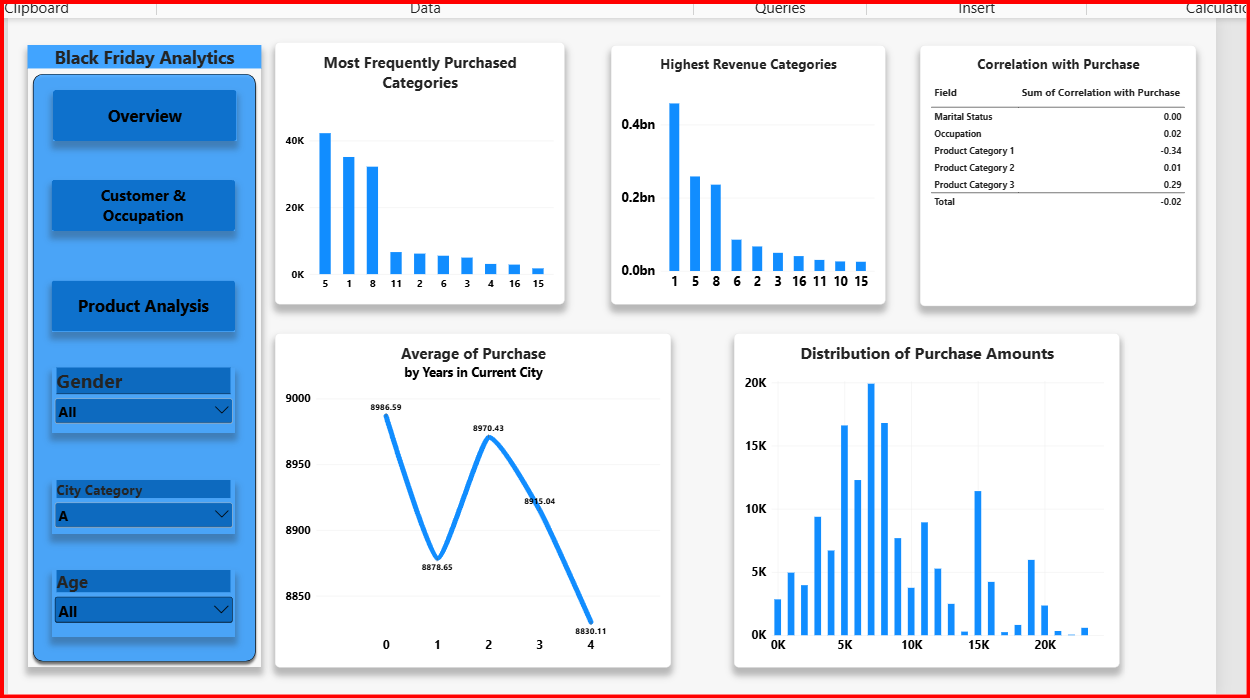

What the dashboard file says about the page in this screenshot:
{"tool":"powerbi","page":{"name":"Product Anyalsis","canvas":[1920,1080],"ordinal":2},"visuals":[{"type":"group","id":"g1","title":"Group 2","box":[31,42.9,369.8,990.2],"z":0},{"type":"shape","title":"Black Friday Analytics","box":[31,42.9,371.7,989.3],"z":0,"group":"g1"},{"type":"clusteredColumnChart","title":"Most Frequently Purchased Categories","fields":{"Category":["Black_friday_sales_dataset.Product_Category_1"],"Y":["CountNonNull(Black_friday_sales_dataset.User_ID)"]},"box":[424.7,38.2,460.5,417.5],"z":1000},{"type":"actionButton","box":[72,115.5,292.1,81.1],"z":1000,"group":"g1"},{"type":"clusteredColumnChart","title":"Highest Revenue Categories","fields":{"Category":["Black_friday_sales_dataset.Product_Category_1"],"Y":["Sum(Black_friday_sales_dataset.Purchase)"]},"box":[959.1,42.9,436.6,412.8],"z":2000},{"type":"actionButton","box":[70.3,418.1,292.1,81.1],"z":2000,"group":"g1"},{"type":"actionButton","box":[70.3,256.5,292.1,81.1],"z":3000,"group":"g1"},{"type":"lineChart","title":"Average of Purchase ","fields":{"Category":["Black_friday_sales_dataset.Stay_In_Current_City_Years"],"Y":["Avg(Black_friday_sales_dataset.Purchase)"]},"box":[424.7,501,629.9,532.1],"z":3000},{"type":"clusteredColumnChart","title":"Distribution of Purchase Amounts","fields":{"Category":["Black_friday_sales_dataset.Purchase (bins)"],"Y":["CountNonNull(Black_friday_sales_dataset.Purchase)"]},"box":[1154.8,501,613.2,532.1],"z":3001},{"type":"tableEx","title":"Correlation with Purchase","fields":{"Values":["CorrelationTable.Field","Sum(CorrelationTable.Correlation with Purchase)"]},"box":[1450.6,42.9,439,415.1],"z":3002},{"type":"slicer","fields":{"Values":["Black_friday_sales_dataset.Gender"]},"box":[70.3,556.6,292.9,103.9],"z":4000,"group":"g1"},{"type":"slicer","fields":{"Values":["Black_friday_sales_dataset.City_Category"]},"box":[70.3,735.6,292.9,86.6],"z":5000,"group":"g1"},{"type":"slicer","fields":{"Values":["Black_friday_sales_dataset.Age"]},"box":[70.3,877,292.9,106.8],"z":6000,"group":"g1"}]}

Visuals, with their boxes on the page's 1920x1080 design canvas (x1, y1, x2, y2). These are canvas units, not pixel positions in the 1250x698 screenshot, which may show the page scaled, cropped or inside an application window:
"Group 2" group: (31, 43, 401, 1033)
"Black Friday Analytics" shape: (31, 43, 403, 1032)
"Most Frequently Purchased Categories" clusteredColumnChart: (425, 38, 885, 456)
actionButton: (72, 116, 364, 197)
"Highest Revenue Categories" clusteredColumnChart: (959, 43, 1396, 456)
actionButton: (70, 418, 362, 499)
actionButton: (70, 256, 362, 338)
"Average of Purchase " lineChart: (425, 501, 1055, 1033)
"Distribution of Purchase Amounts" clusteredColumnChart: (1155, 501, 1768, 1033)
"Correlation with Purchase" tableEx: (1451, 43, 1890, 458)
slicer - Black_friday_sales_dataset.Gender: (70, 557, 363, 660)
slicer - Black_friday_sales_dataset.City_Category: (70, 736, 363, 822)
slicer - Black_friday_sales_dataset.Age: (70, 877, 363, 984)
